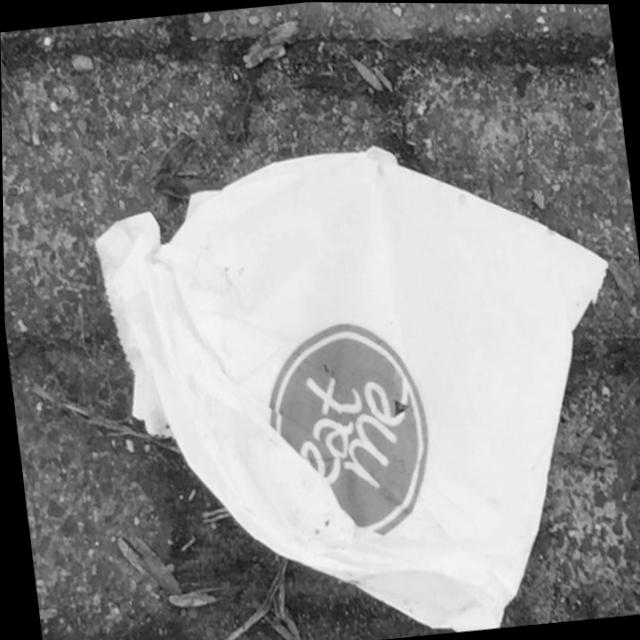Paper: (81, 116, 640, 640)
